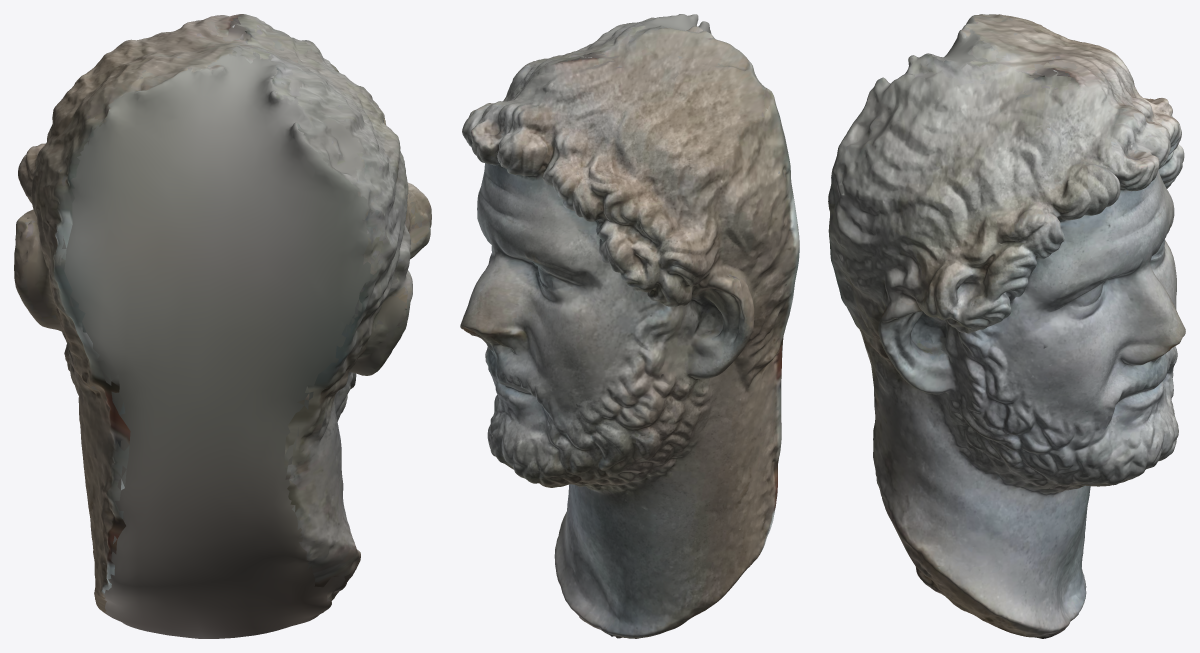
Rendered from proton-scan-20260820133334.glb.
3 views of the same model, side by side, from view 1: azimuth 30°, elevation 25°; view 2: azimuth 150°, elevation 25°; view 3: azimuth 270°, elevation 25° (orthographic). The views are drawn at different scales.
Parts seen in each view (by area): view 1: ProtonScan20260820133334; view 2: ProtonScan20260820133334; view 3: ProtonScan20260820133334.
Boxes of the visible parts, bbox=[...] form: ProtonScan20260820133334: bbox=[14, 14, 431, 638]; ProtonScan20260820133334: bbox=[460, 14, 799, 638]; ProtonScan20260820133334: bbox=[828, 14, 1185, 638].
Bounding box in the file's own units: 2.57 × 4.5 × 2.54.
Materials: 1 (1 with a texture image).
